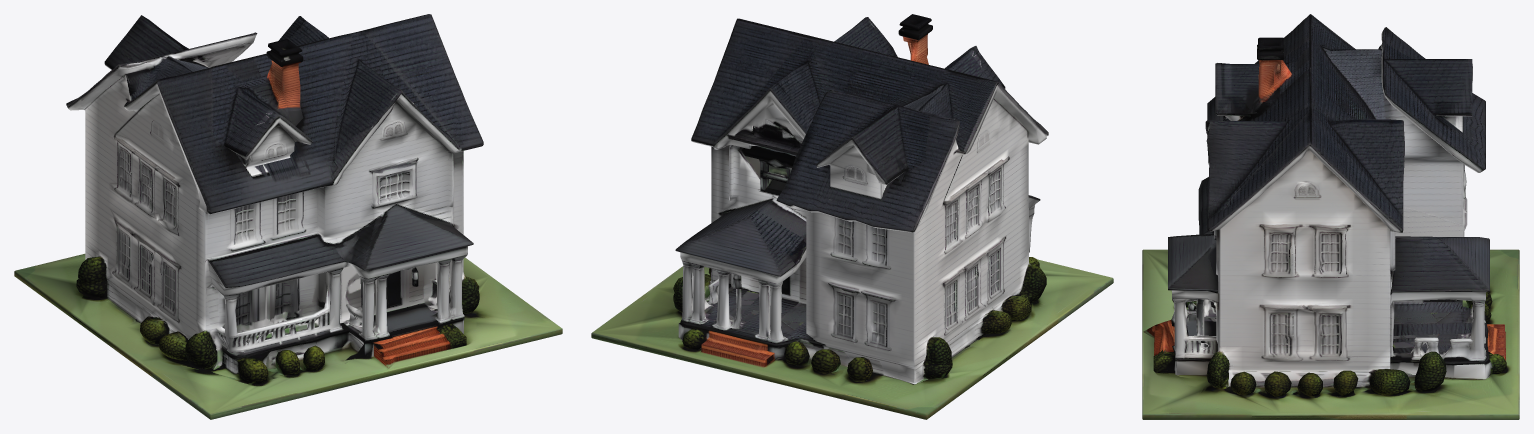
File: white_house_0621055929_texture.glb
The picture shows the model from 3 angles, left to right: view 1: azimuth 30°, elevation 25°; view 2: azimuth 150°, elevation 25°; view 3: azimuth 270°, elevation 25°; orthographic projection. The views are drawn at different scales.
Visible parts, largest first — view 1: Mesh_0.001; view 2: Mesh_0.001; view 3: Mesh_0.001.
Boxes of the visible parts, x1,y1,x2,y2 form: Mesh_0.001: (14,14,562,419); Mesh_0.001: (591,14,1113,419); Mesh_0.001: (1142,14,1519,419).
Bounding box in the file's own units: 9.66 × 7.62 × 9.33.
Materials: 1 (1 with a texture image).
